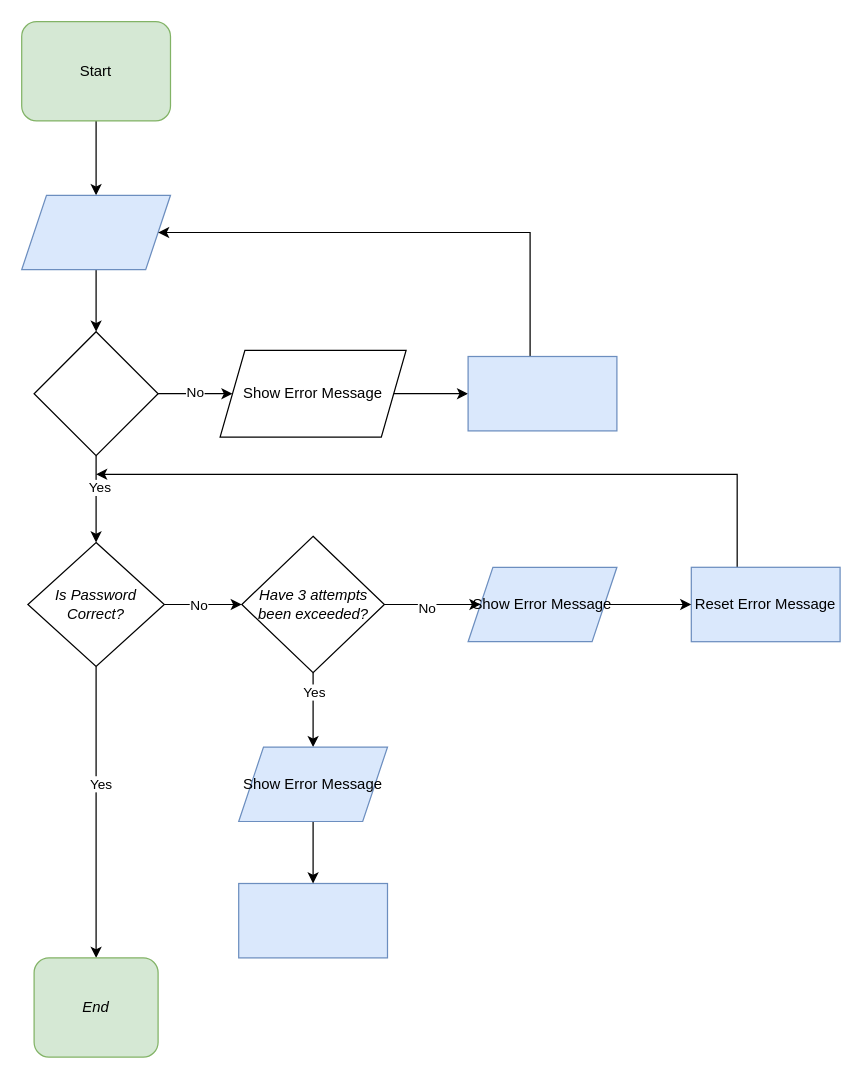
Image size: 862x1079. Some labels were removed from this diagram. The shapes that lost their labels are listed below. From the top down, each one's box as (x1, y1, x2, y2) in pixels, then its label:
(20, 194, 170, 270): Enter Username and Password
(33, 330, 158, 456): Is username Valid?
(467, 355, 617, 431): Incorrect Attempts
(237, 882, 388, 958): Lock Account
